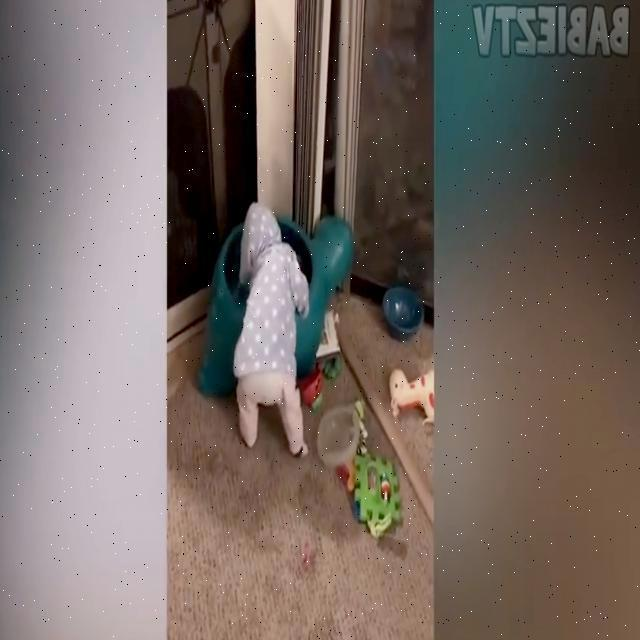child: (232, 199, 308, 456)
